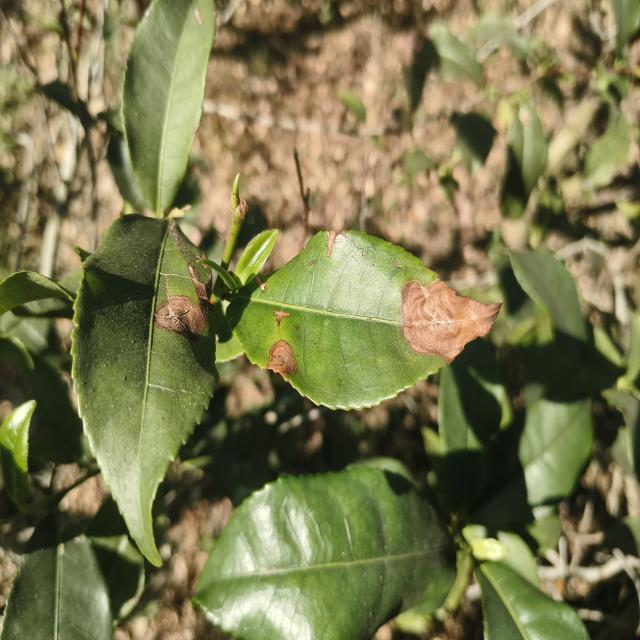Leaf: (71, 215, 218, 566), (227, 231, 499, 409), (194, 466, 455, 640), (122, 0, 216, 217), (469, 399, 593, 528), (0, 512, 113, 640), (438, 338, 511, 517), (0, 336, 84, 462), (476, 561, 588, 640), (510, 251, 587, 341), (502, 104, 547, 219), (0, 400, 36, 509), (583, 109, 630, 189), (429, 23, 483, 84), (235, 229, 278, 287)
